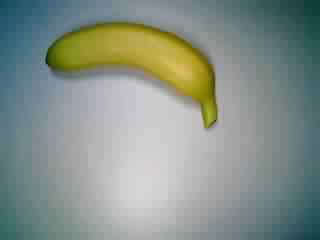banana: (44, 17, 228, 137)
